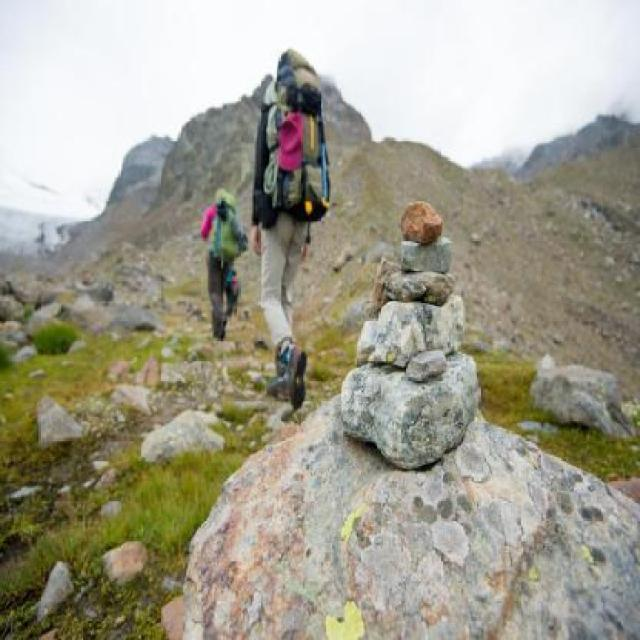backpack: (266, 43, 336, 222), (209, 188, 249, 262)
